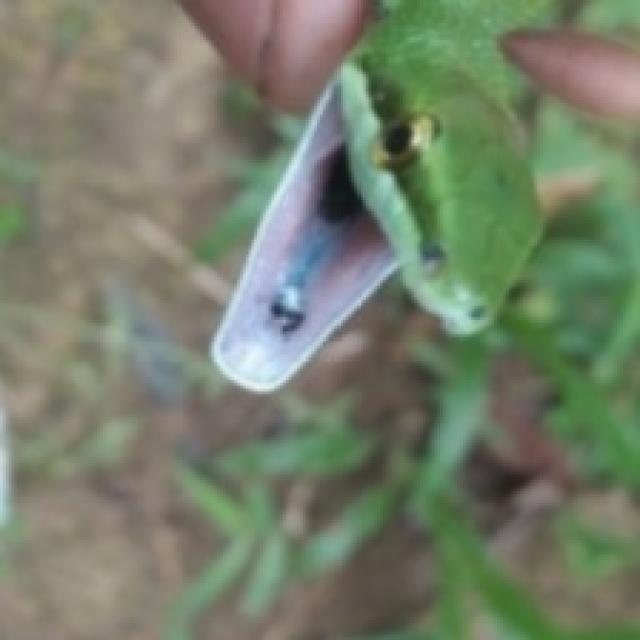red-tailed green ratsnake: (211, 0, 637, 389)
